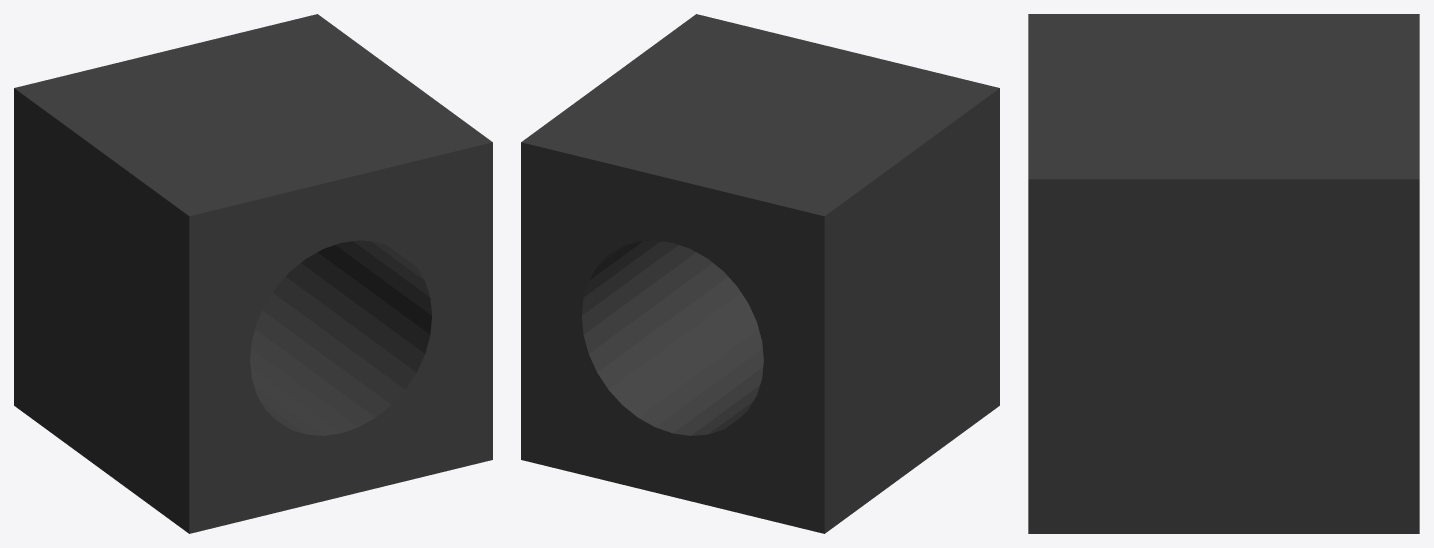
3 views of the same model, side by side, from view 1: azimuth 30°, elevation 25°; view 2: azimuth 150°, elevation 25°; view 3: azimuth 270°, elevation 25° (orthographic). The views are drawn at different scales.
Visible parts, largest first — view 1: world; view 2: world; view 3: world.
Part boxes in pixels (x1,y1,x2,y2): world: (14,14,492,533); world: (521,14,999,533); world: (1028,14,1419,533).
Size of the model in its own units: 20 by 20 by 20.
1 material, 1 textured.
